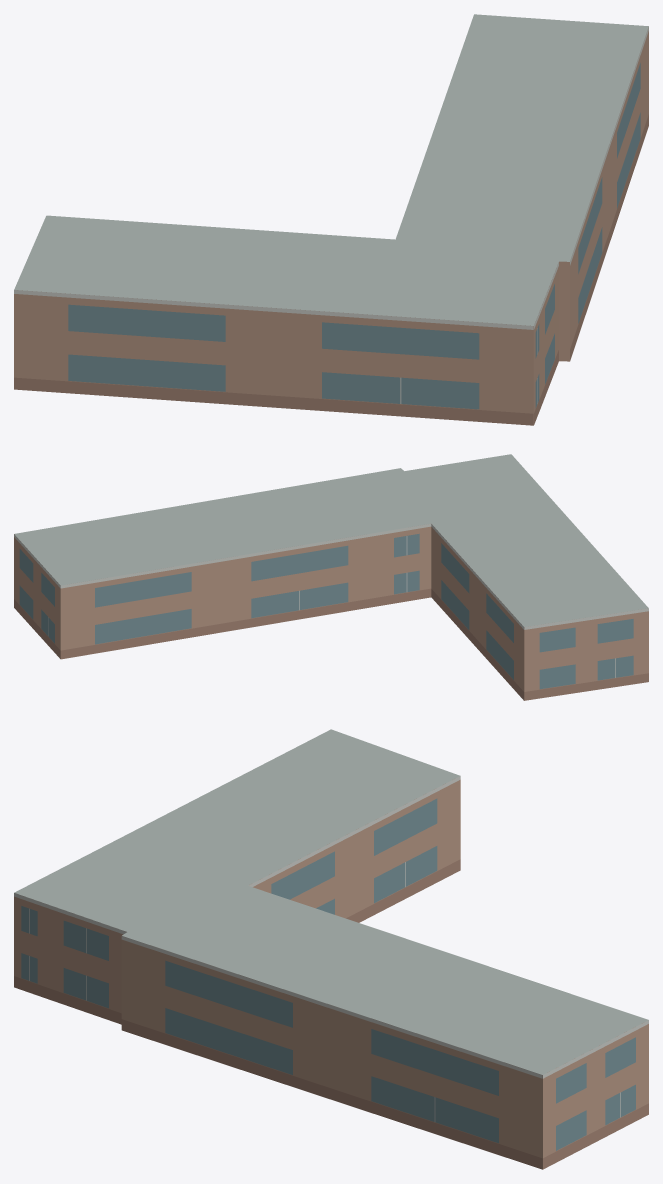
The model's file is survey-upis-32723046.glb.
The picture shows the model from 3 angles, top to bottom: view 1: azimuth 30°, elevation 25°; view 2: azimuth 150°, elevation 25°; view 3: azimuth 270°, elevation 25°; orthographic projection. The views are drawn at different scales.
Visible parts, largest first — view 1: survey-upis-32723046.tmp; view 2: survey-upis-32723046.tmp; view 3: survey-upis-32723046.tmp.
Part boxes in pixels (x1,y1,x2,y2): survey-upis-32723046.tmp: (14, 14, 648, 425); survey-upis-32723046.tmp: (14, 454, 648, 700); survey-upis-32723046.tmp: (14, 729, 648, 1169).
Bounding box in the file's own units: 47.81 × 6.1 × 37.1.
